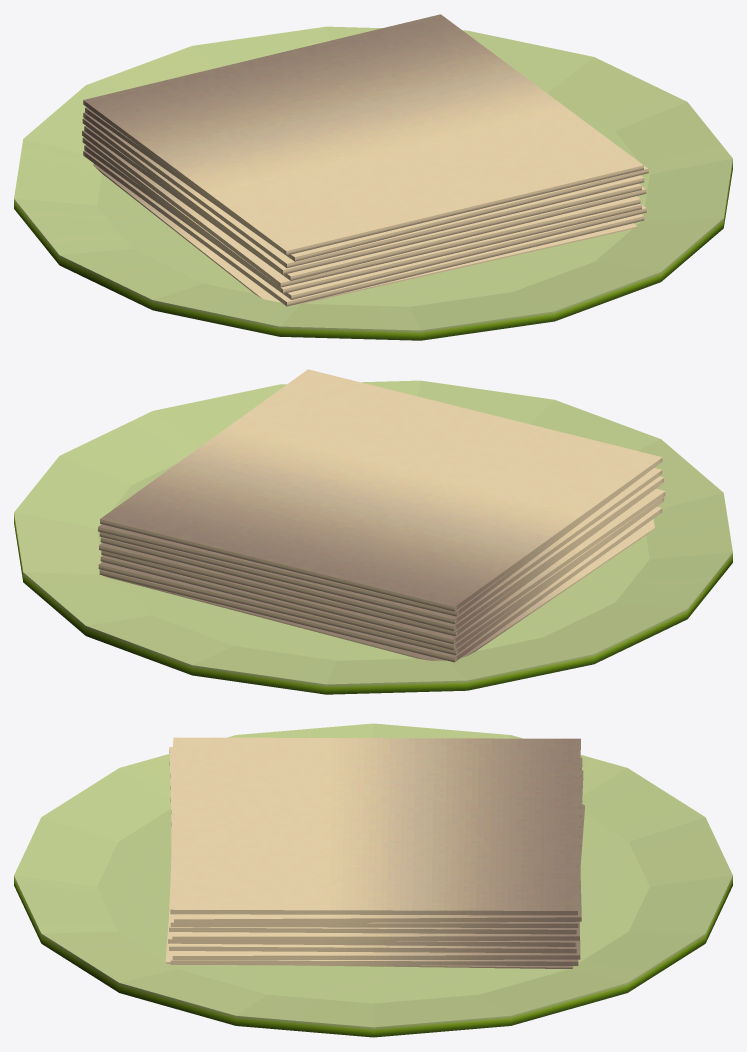
Rendered from Lunpia_Stack.FBX.
The picture shows the model from 3 angles, top to bottom: view 1: azimuth 30°, elevation 25°; view 2: azimuth 150°, elevation 25°; view 3: azimuth 270°, elevation 25°; orthographic projection.
Visible parts, largest first — view 1: LumpiaWrapper; view 2: LumpiaWrapper; view 3: LumpiaWrapper.
Part boxes in pixels (x1,y1,x2,y2): LumpiaWrapper: (14, 14, 732, 340); LumpiaWrapper: (14, 369, 732, 694); LumpiaWrapper: (14, 723, 732, 1037).
Size of the model in its own units: 0.4409 by 0.0436 by 0.4409.
2 materials, 2 textured.
